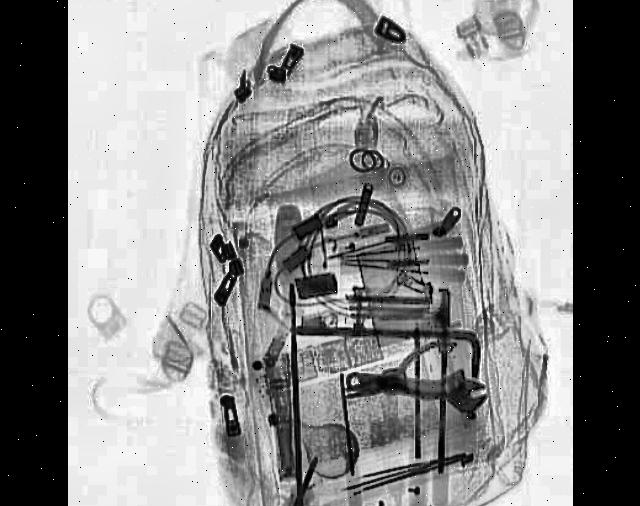Wrench: (344, 361, 486, 413)
